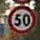limite 50: (7, 4, 35, 33)
